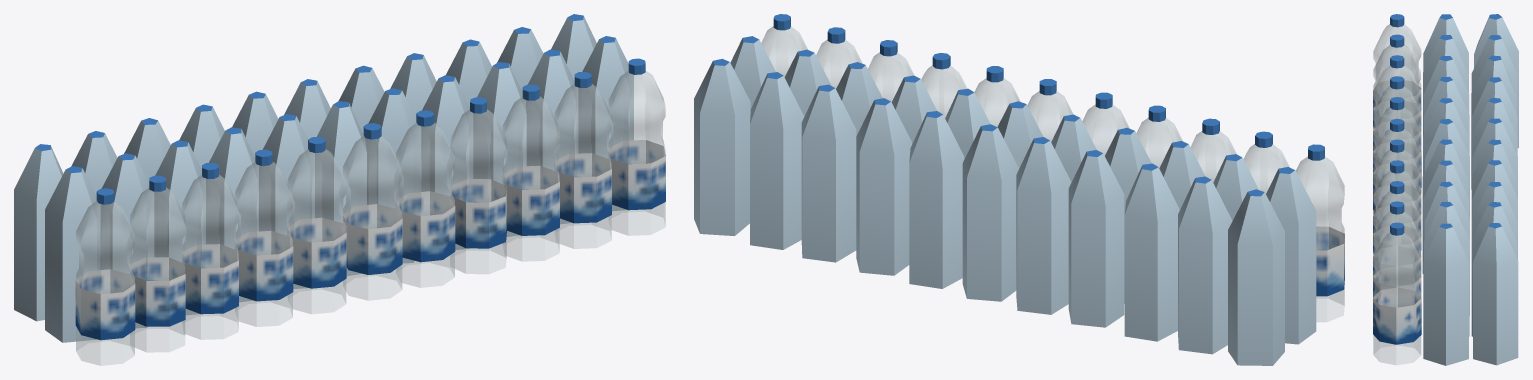
The model's file is SC_Prod_Row_Water_2L.gltf.
3 renders of one model, left to right at view 1: azimuth 30°, elevation 25°; view 2: azimuth 150°, elevation 25°; view 3: azimuth 270°, elevation 25°, orthographic. The views are drawn at different scales.
Parts seen in each view (by area): view 1: SC_Prod_Row_Water_2L; view 2: SC_Prod_Row_Water_2L; view 3: SC_Prod_Row_Water_2L.
Part boxes in pixels (x1,y1,x2,y2): SC_Prod_Row_Water_2L: (14, 14, 665, 365); SC_Prod_Row_Water_2L: (694, 14, 1344, 365); SC_Prod_Row_Water_2L: (1373, 14, 1518, 365).
Bounding box in the file's own units: 1.19 × 0.313 × 0.319.
3 materials, 3 textured.
